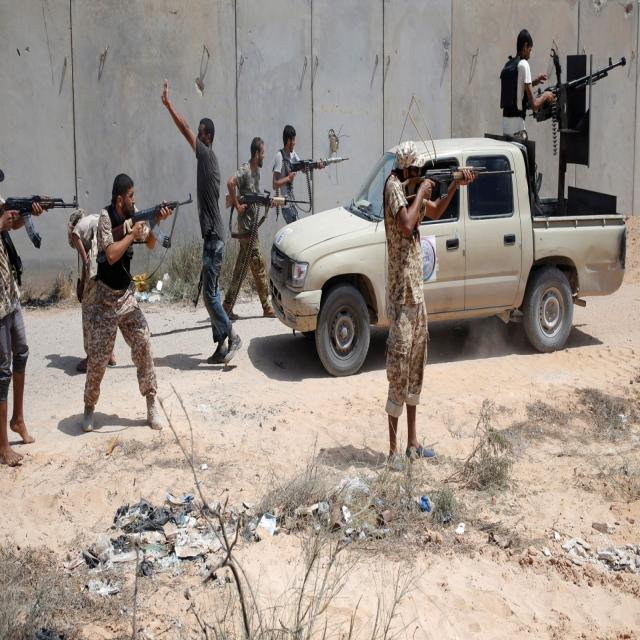body: (382, 137, 478, 467), (156, 72, 244, 369), (81, 170, 174, 433), (0, 194, 52, 474), (0, 165, 44, 471), (221, 135, 278, 322), (66, 207, 116, 373), (498, 26, 556, 142), (272, 122, 326, 225)
